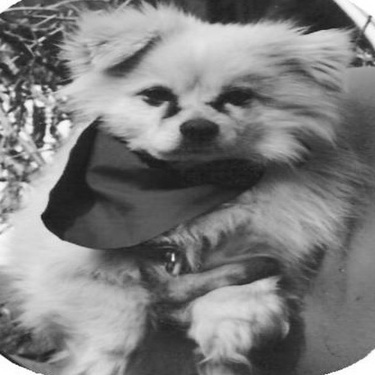dog: (1, 3, 366, 372)
